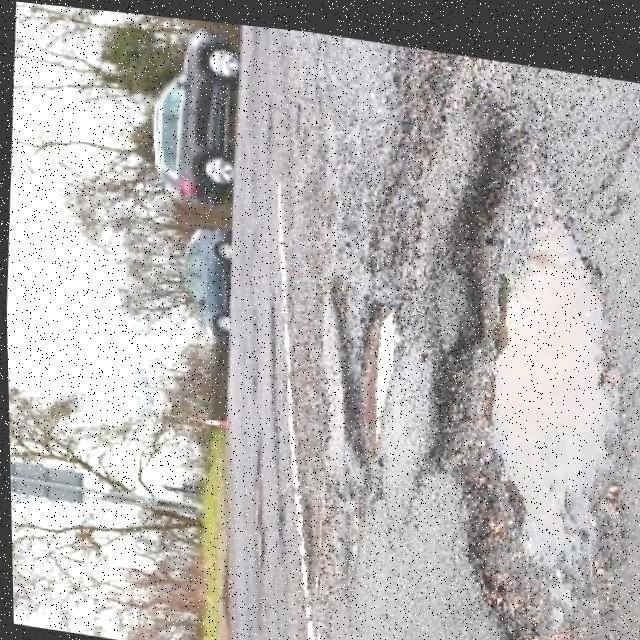pothole: (400, 86, 640, 640), (326, 286, 406, 462)
